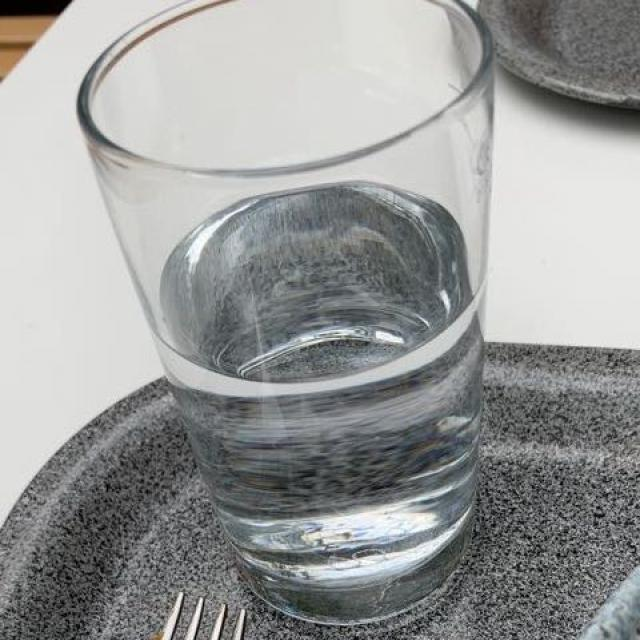water: (203, 216, 450, 351)
